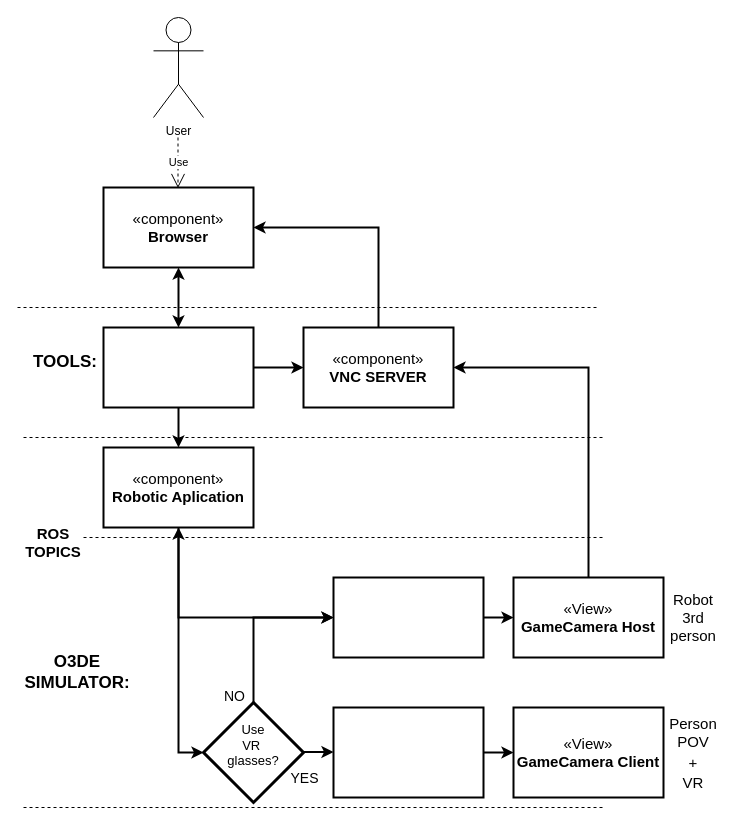
Image size: 741x826. Some labels were removed from this diagram. The shapes that lost their labels are listed below. From the top down, each one's centre as x and y in pixels, then its label:
At (178,367): "«component» RAM".
At (408,617): "«GameLauncher» Client Host A".
At (408,752): "«GameLauncher» Client B".
